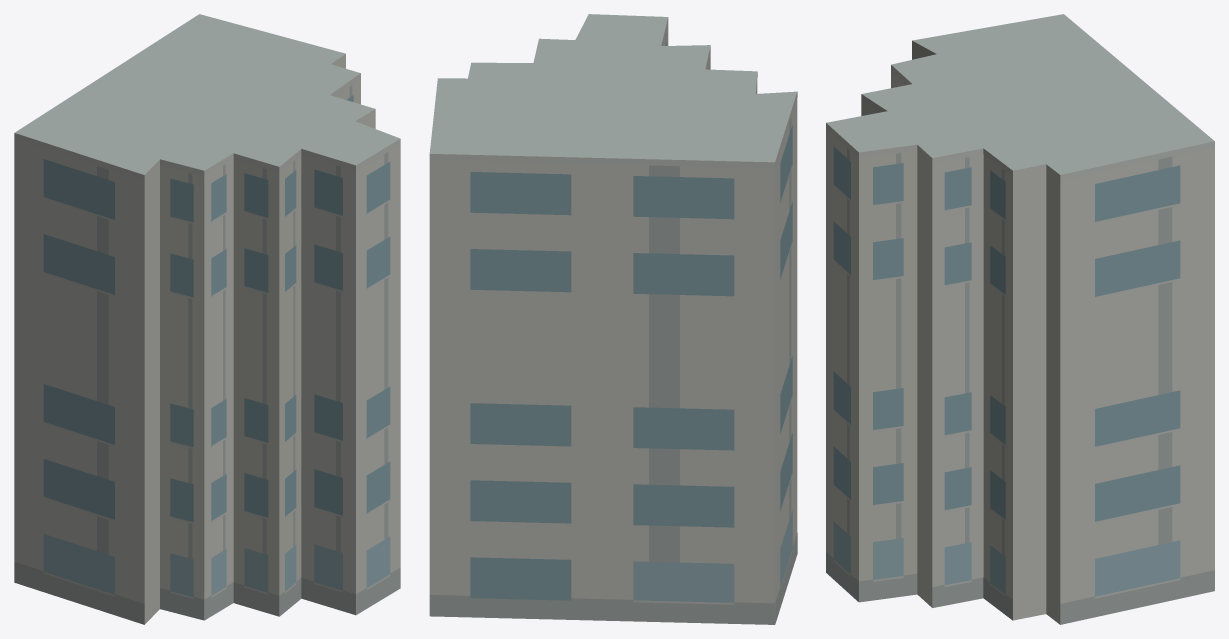
The model's file is survey-upis-32847589.glb.
The picture shows the model from 3 angles, left to right: view 1: azimuth 30°, elevation 25°; view 2: azimuth 150°, elevation 25°; view 3: azimuth 270°, elevation 25°; orthographic projection. The views are drawn at different scales.
Parts seen in each view (by area): view 1: survey-upis-32847589.tmp; view 2: survey-upis-32847589.tmp; view 3: survey-upis-32847589.tmp.
Boxes of the visible parts, left/top/right/bottom form: survey-upis-32847589.tmp: left=14, top=14, right=400, bottom=624; survey-upis-32847589.tmp: left=429, top=14, right=797, bottom=624; survey-upis-32847589.tmp: left=826, top=14, right=1214, bottom=624.
Bounding box in the file's own units: 13.82 × 18 × 14.11.
